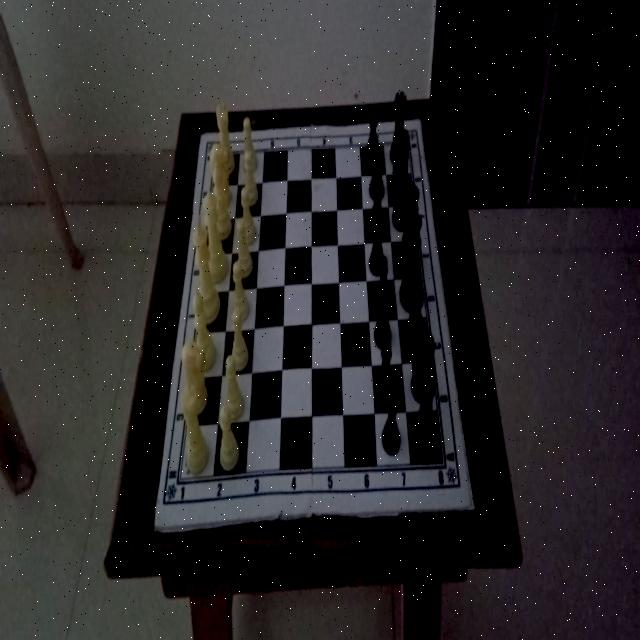corners: (196, 123, 209, 149), (468, 489, 480, 515), (152, 511, 162, 537), (414, 114, 422, 134)
